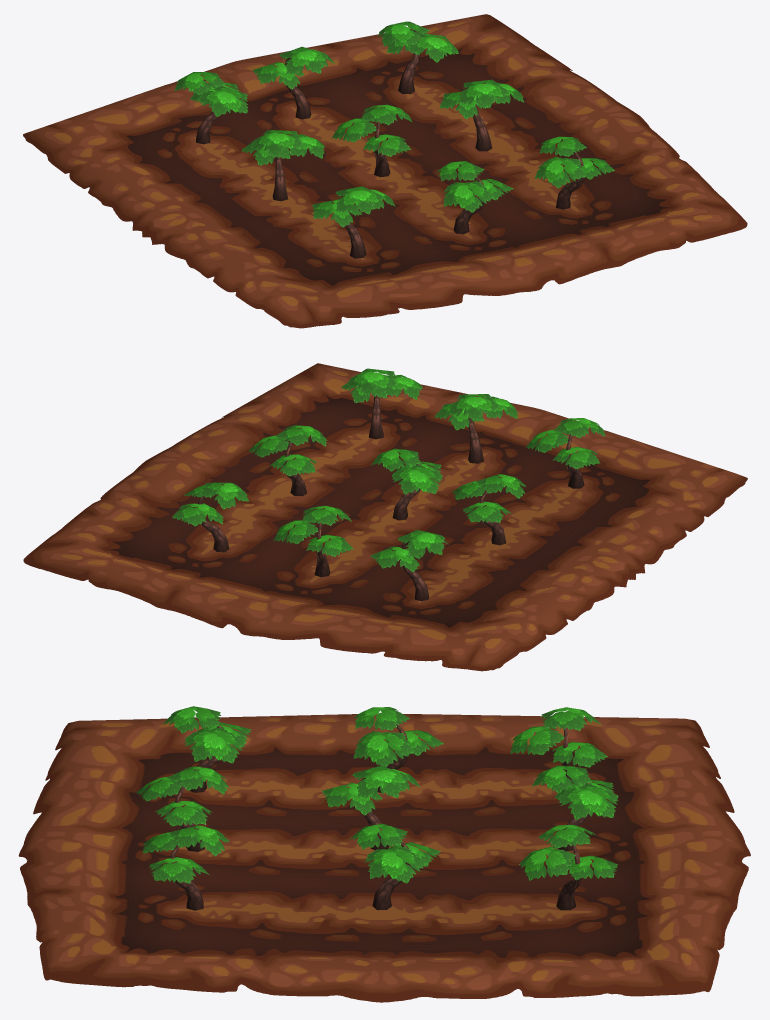
Rendered from Grape_Field_Lv1.FBX.
3 renders of one model, top to bottom at view 1: azimuth 30°, elevation 25°; view 2: azimuth 150°, elevation 25°; view 3: azimuth 270°, elevation 25°, orthographic. The views are drawn at different scales.
Parts seen in each view (by area): view 1: Grape_Field_Lv1; view 2: Grape_Field_Lv1; view 3: Grape_Field_Lv1.
Boxes of the visible parts, x1,y1,x2,y2 form: Grape_Field_Lv1: (23, 14, 747, 328); Grape_Field_Lv1: (23, 363, 747, 671); Grape_Field_Lv1: (18, 706, 750, 1002).
Size of the model in its own units: 274 by 37.96 by 296.
